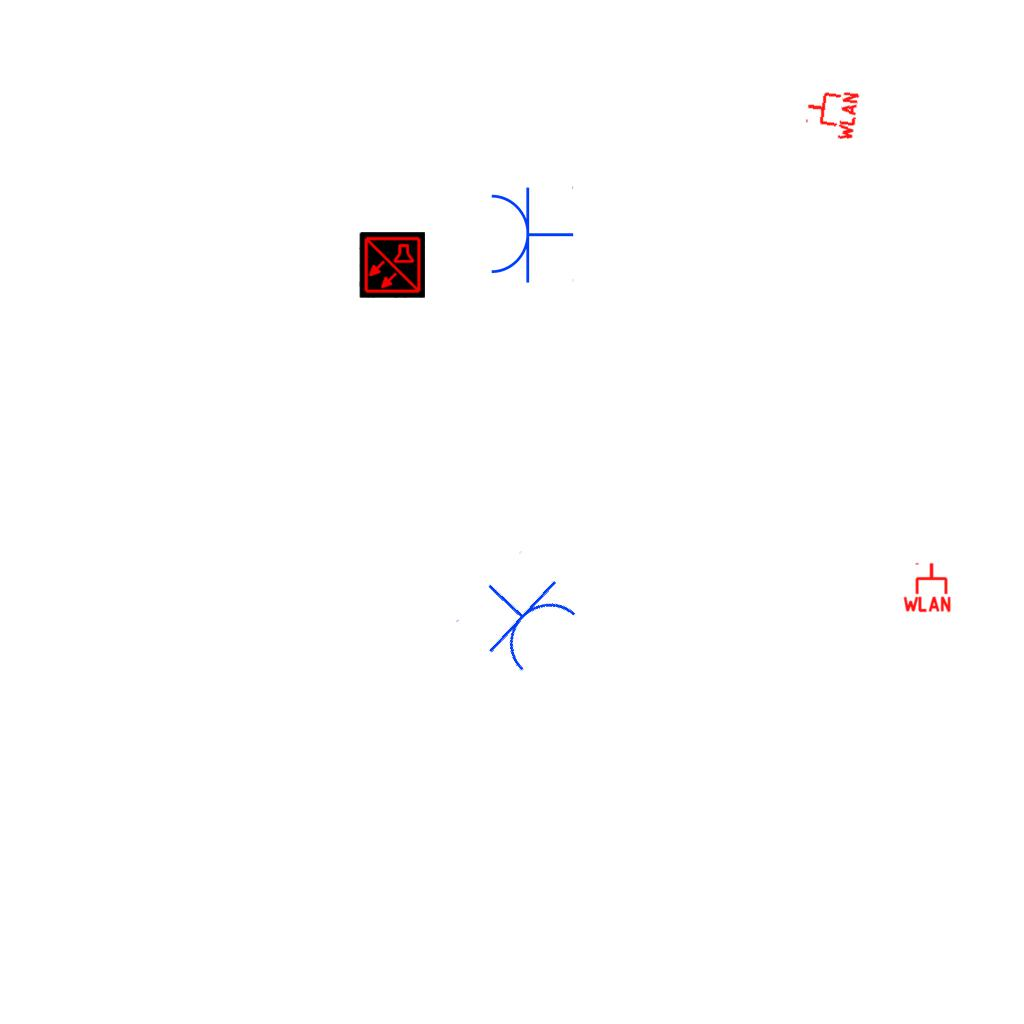OKW_Multisensormelder_(Kombination_optischer_Rauch-Kahlenmonoxid_Waerme-Melder): (359, 232, 425, 298)
Schukosteckdose_einfach: (454, 549, 586, 682), (487, 184, 574, 284)
WLAN: (801, 84, 861, 144), (901, 561, 953, 613)
